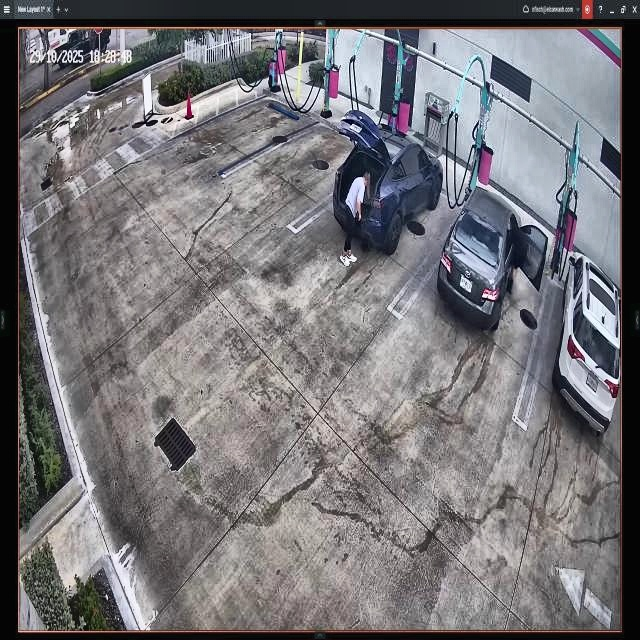Car: (438, 187, 546, 329), (336, 110, 442, 249)
